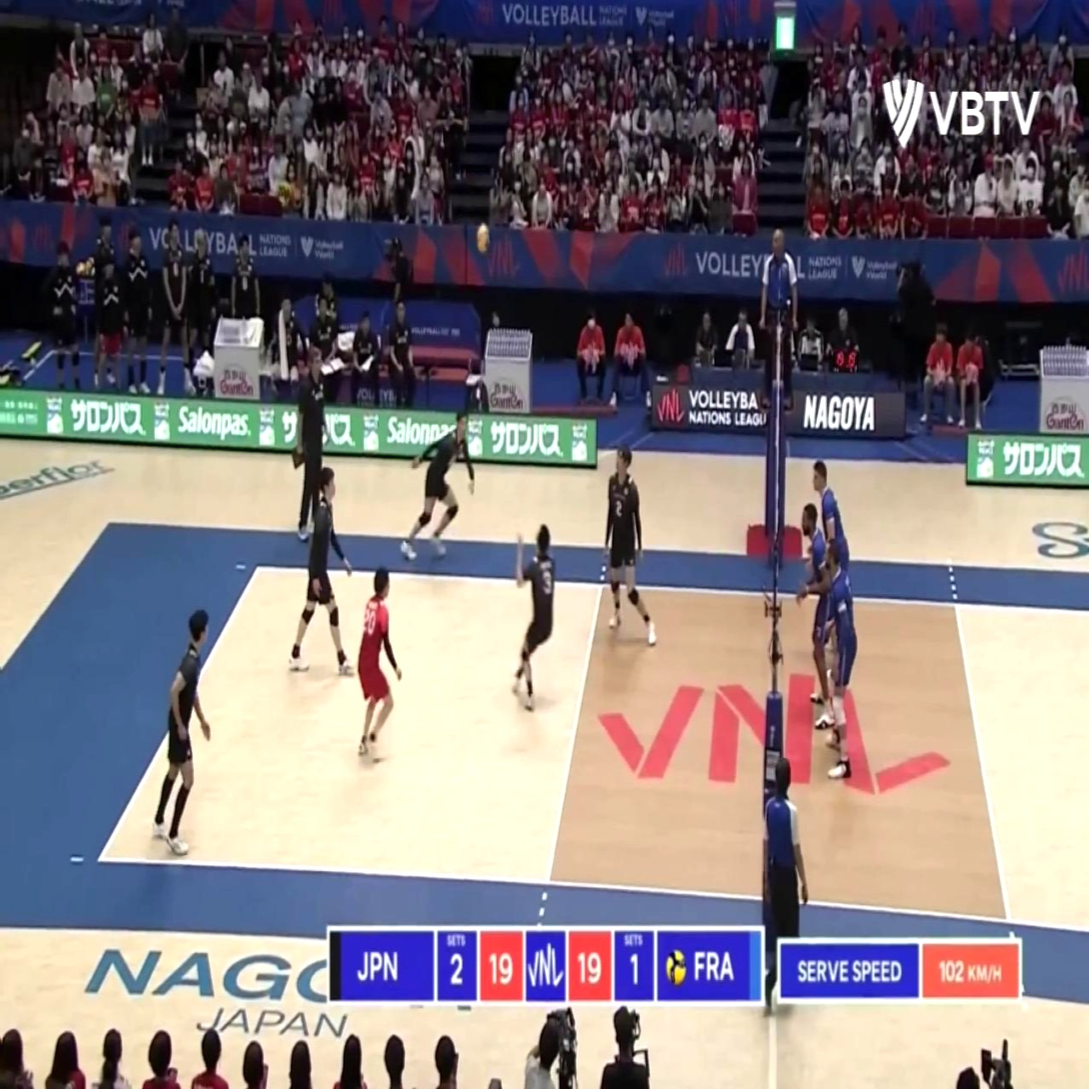ball: (474, 223, 490, 254)
